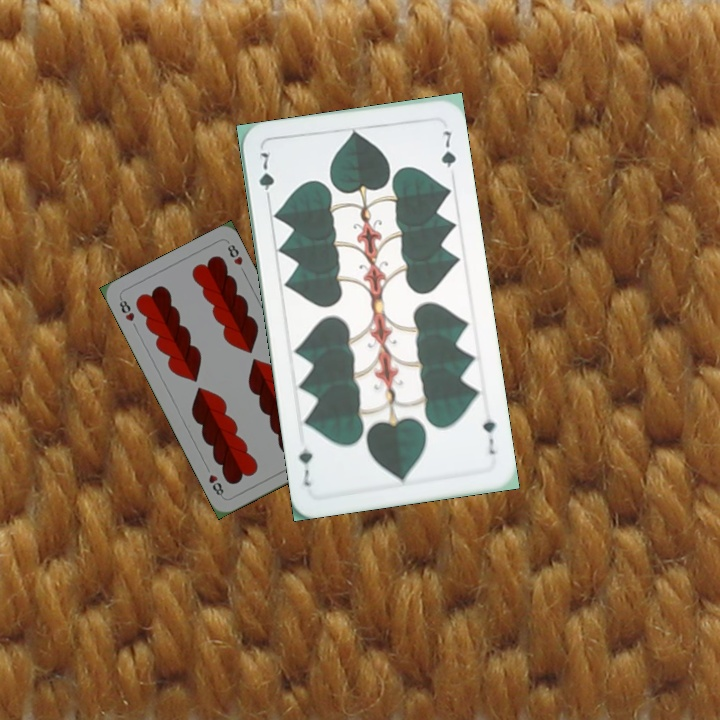G7: (255, 147, 277, 205), (479, 406, 498, 458)
H8: (115, 294, 137, 324)
